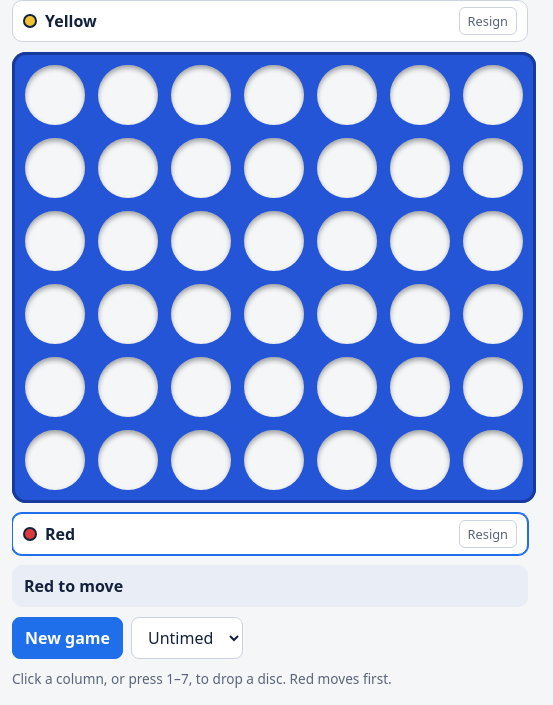
Test: ConnectFourGame › starts a fresh game
This screenshot has width=553, height=705.
Click the button named "Column 1, 6 free" at (55,277), box [18, 58, 91, 497]
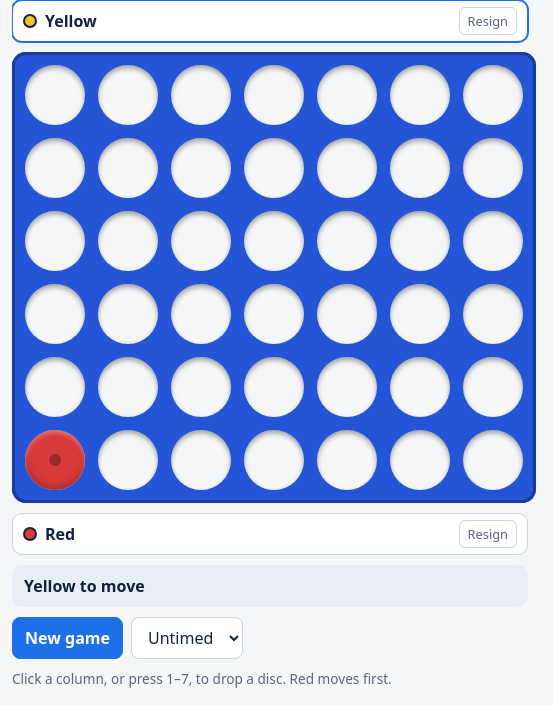
Click the button named "Column 2, 6 free" at (128,277), box [91, 58, 164, 497]
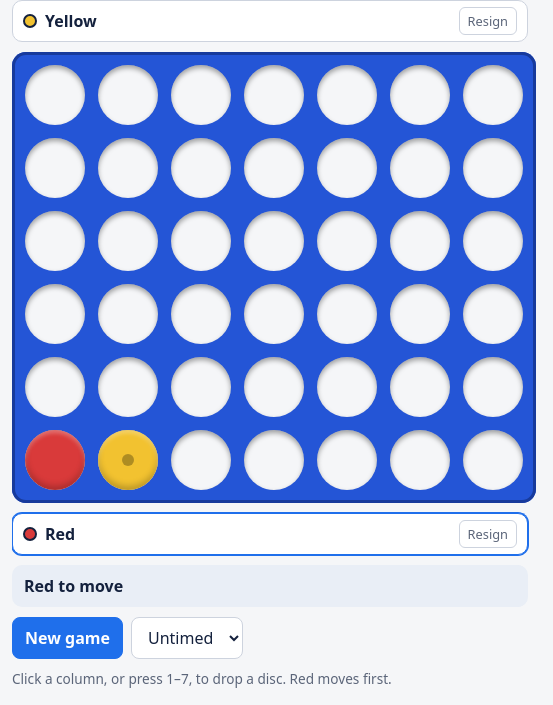
Click the button named "Column 3, 6 free" at (201,277), box [164, 58, 237, 497]
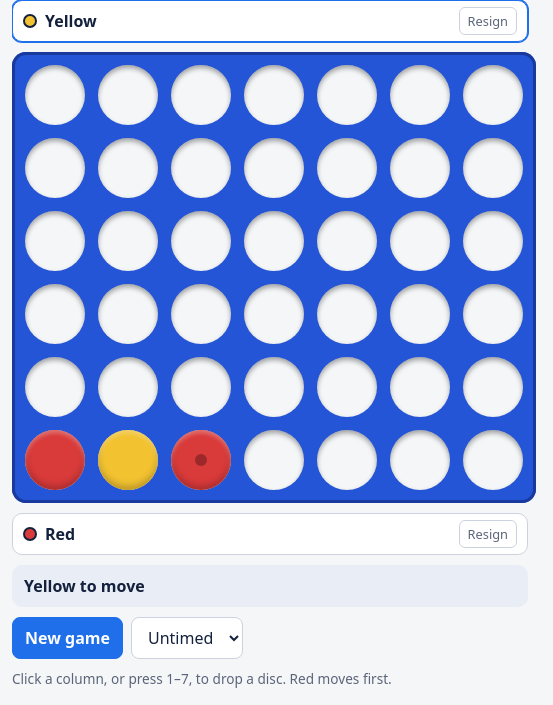
Click the button "New game" at (68,638), box [12, 617, 123, 659]
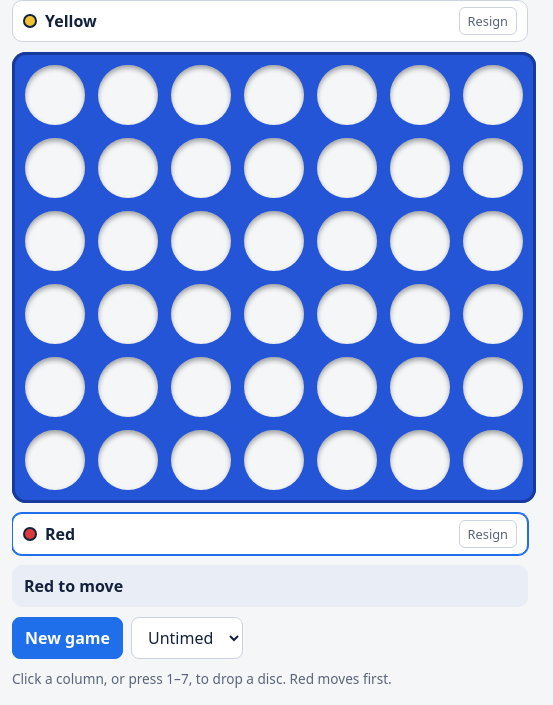
Now the text "Red to move" is shown, box [12, 565, 528, 607]
